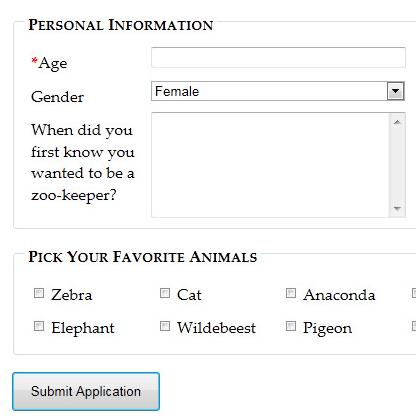button: (10, 369, 162, 414)
field: (146, 110, 409, 221), (146, 45, 406, 71)
